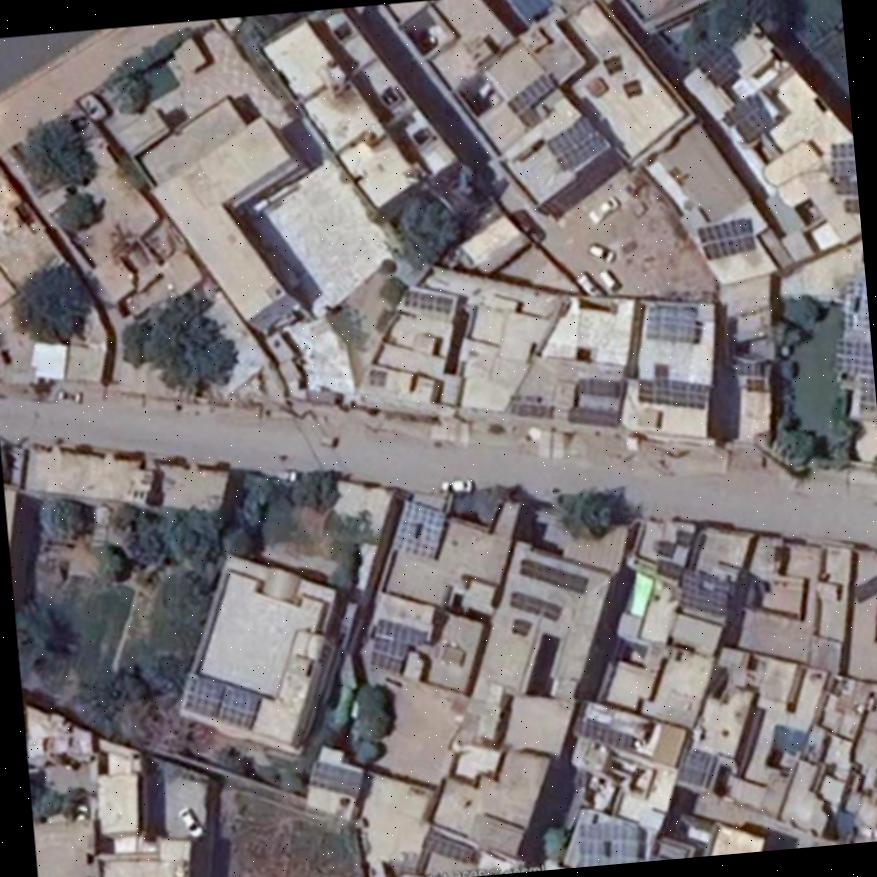Solarpanel: (185, 674, 258, 725), (370, 620, 424, 675), (394, 501, 446, 557), (546, 119, 605, 167), (677, 568, 732, 614), (578, 823, 638, 865), (520, 555, 586, 590), (724, 91, 768, 139), (638, 378, 708, 407), (697, 220, 753, 256), (505, 72, 554, 111), (310, 761, 359, 795), (695, 44, 736, 83), (511, 590, 560, 619), (429, 837, 474, 861), (830, 142, 855, 173), (850, 572, 877, 600), (511, 618, 531, 632)
